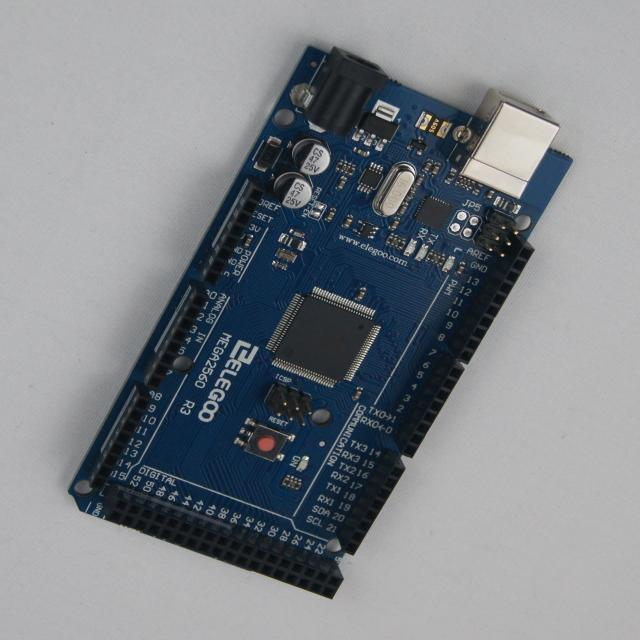Arduino Mega 2560 -Blue-: (71, 47, 571, 600)
